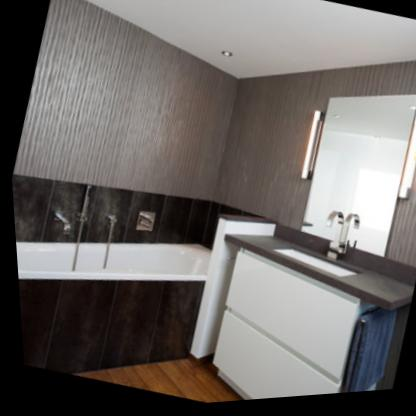Cabinet: (203, 243, 367, 403)
